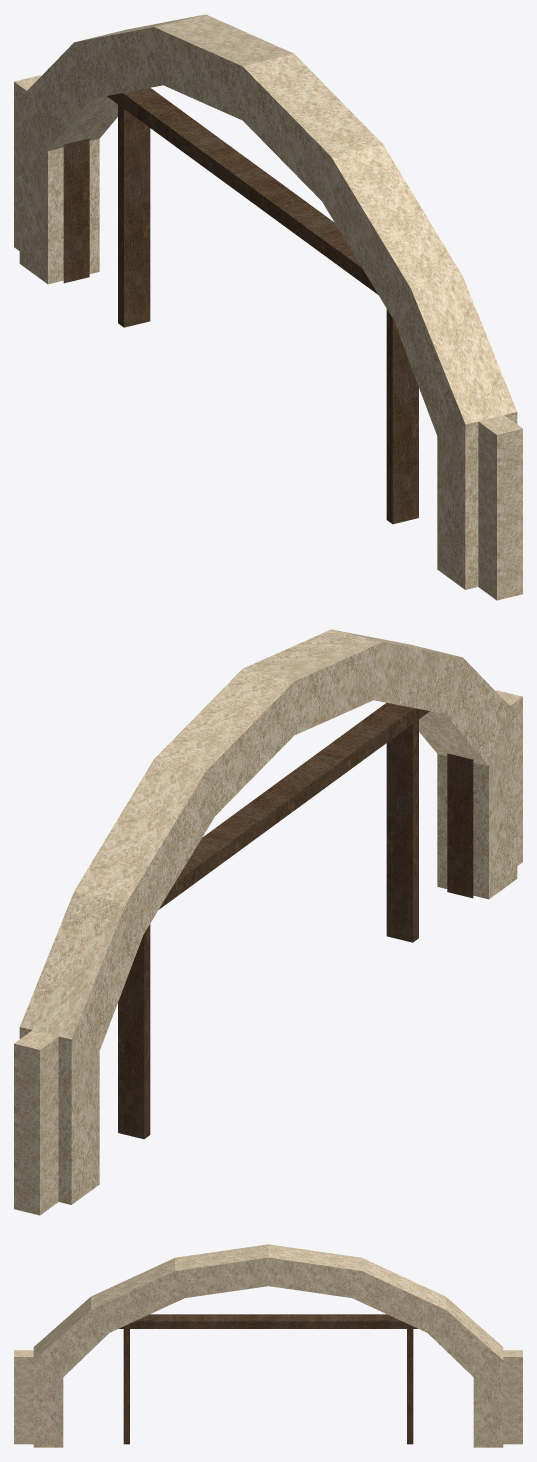
Rendered from thm_tato_imprv_wallgate_wide_s01_l2.fbx.
3 views of the same model, one above another, from view 1: azimuth 30°, elevation 25°; view 2: azimuth 150°, elevation 25°; view 3: azimuth 270°, elevation 25° (orthographic). The views are drawn at different scales.
Parts seen in each view (by area): view 1: mesh_node; view 2: mesh_node; view 3: mesh_node.
Boxes of the visible parts, left/top/right/bottom form: mesh_node: left=14, top=14, right=522, bottom=600; mesh_node: left=14, top=629, right=522, bottom=1215; mesh_node: left=14, top=1244, right=522, bottom=1447.
Size of the model in its own units: 0.9899 by 6.59 by 16.
